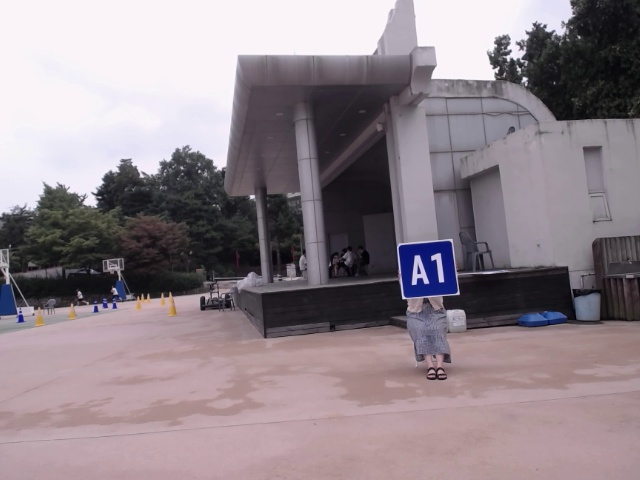delivery_a1: (398, 241, 459, 298)
